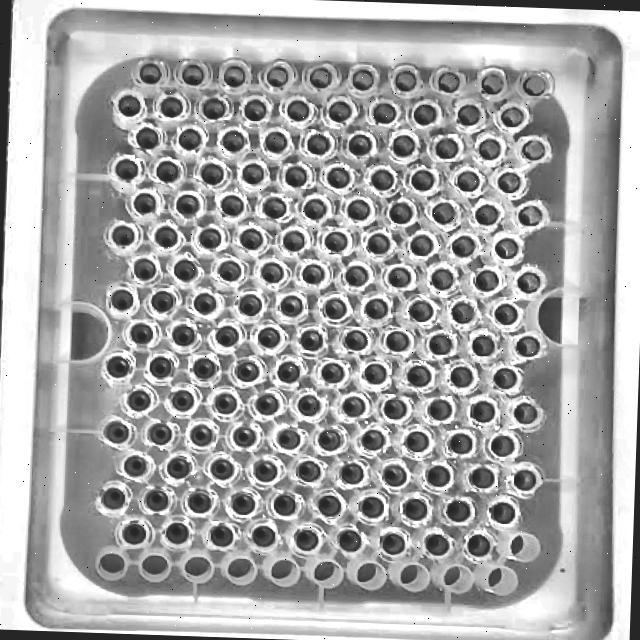vial: (166, 455, 190, 478), (209, 458, 234, 480), (522, 74, 547, 95), (123, 522, 146, 544), (188, 491, 211, 513), (231, 492, 254, 514), (383, 464, 406, 486), (190, 423, 213, 445), (318, 429, 341, 451), (193, 357, 216, 379), (360, 497, 384, 518), (253, 460, 277, 481), (105, 421, 129, 442), (232, 426, 256, 447), (490, 435, 514, 456), (296, 461, 321, 481), (318, 494, 340, 516), (394, 69, 416, 91), (481, 72, 503, 94), (252, 525, 275, 546), (512, 469, 535, 490), (470, 467, 493, 488), (148, 423, 171, 444), (513, 402, 536, 423), (428, 399, 451, 420), (471, 401, 494, 422), (106, 356, 129, 377), (407, 365, 430, 386), (172, 324, 195, 345), (238, 294, 261, 315), (494, 304, 517, 325), (519, 205, 542, 226), (276, 428, 300, 448), (426, 534, 448, 555), (102, 487, 124, 508), (341, 463, 363, 484), (171, 390, 193, 411), (364, 363, 386, 384), (194, 292, 215, 314), (479, 138, 501, 159), (287, 100, 309, 121), (165, 523, 188, 543), (210, 526, 233, 546), (295, 530, 318, 550), (404, 499, 427, 519), (427, 466, 450, 486), (123, 455, 146, 475), (405, 431, 428, 451), (128, 390, 151, 410), (297, 395, 320, 415), (383, 399, 406, 419), (149, 357, 172, 377), (277, 362, 300, 382), (493, 368, 516, 388), (216, 326, 239, 346), (300, 330, 323, 350), (173, 259, 196, 279), (218, 261, 241, 281), (495, 238, 518, 258), (309, 68, 332, 88), (491, 503, 515, 522), (451, 366, 472, 387), (111, 289, 132, 310), (281, 295, 302, 316), (348, 199, 369, 220), (468, 535, 490, 555), (146, 490, 168, 510), (361, 430, 383, 450), (345, 330, 367, 350), (472, 336, 494, 356), (410, 301, 432, 321), (345, 266, 367, 286), (410, 235, 432, 255), (263, 198, 285, 218), (304, 199, 326, 219), (498, 172, 520, 192), (523, 140, 545, 160), (118, 95, 140, 115), (457, 104, 479, 124), (223, 66, 245, 86), (130, 324, 153, 343), (476, 271, 499, 290), (451, 236, 474, 255), (475, 205, 498, 224), (339, 530, 360, 550), (215, 393, 236, 413), (152, 291, 173, 311), (324, 298, 345, 318), (452, 303, 473, 323), (134, 259, 155, 279), (518, 271, 539, 291), (112, 225, 133, 245), (241, 229, 262, 249), (283, 230, 304, 250), (390, 203, 411, 223), (432, 202, 453, 222), (458, 171, 479, 191), (244, 100, 265, 120), (501, 106, 522, 126), (352, 69, 373, 89), (447, 501, 469, 520), (321, 363, 343, 382), (386, 332, 408, 351), (517, 336, 539, 355), (261, 262, 283, 281), (431, 269, 453, 288), (155, 227, 177, 246), (285, 167, 307, 186), (327, 168, 349, 187), (222, 131, 244, 150), (264, 132, 286, 151), (161, 97, 183, 116), (203, 99, 225, 118), (328, 102, 350, 121), (394, 135, 414, 155), (267, 66, 287, 86), (450, 434, 471, 453), (258, 327, 279, 346), (429, 334, 450, 353), (365, 298, 386, 317), (389, 268, 410, 287), (325, 232, 346, 251), (222, 196, 243, 215), (242, 164, 263, 183), (179, 129, 200, 148), (349, 135, 370, 154), (373, 104, 394, 123), (414, 105, 435, 124), (382, 535, 404, 553), (372, 171, 394, 189), (175, 196, 198, 213), (275, 495, 295, 514), (257, 395, 277, 414), (342, 396, 362, 415), (200, 229, 220, 248), (137, 128, 157, 147), (183, 64, 203, 83), (438, 72, 458, 91), (201, 165, 221, 183), (367, 235, 388, 252), (303, 265, 322, 283), (141, 63, 159, 82), (236, 363, 256, 380), (135, 195, 155, 212), (411, 172, 431, 189), (308, 136, 328, 153), (437, 140, 456, 157), (117, 161, 137, 177), (156, 164, 176, 180)
